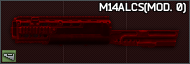M14 SAGE International M14ALCS MOD-0 handguard: (0, 0, 190, 64)
